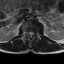CCS_normal: (30, 30, 32, 39)
LFS_severe_stenosis: (34, 31, 36, 35)
LLS_stenosis: (32, 30, 34, 36)
RFS_stenosis: (26, 30, 28, 35)
RLS_normal: (28, 30, 30, 36)
